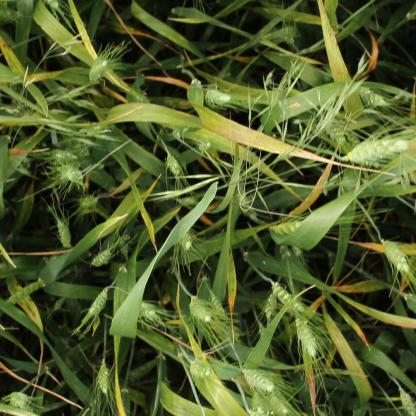whd: (346, 139, 407, 167), (272, 284, 304, 312), (356, 86, 389, 112), (294, 321, 318, 356), (9, 279, 45, 302), (384, 240, 409, 273), (243, 367, 274, 391), (188, 296, 213, 323), (59, 166, 84, 190), (87, 58, 110, 81), (88, 292, 107, 316), (206, 90, 230, 109), (271, 221, 301, 235), (400, 390, 416, 416), (166, 154, 182, 180), (91, 248, 114, 266), (326, 119, 342, 144), (252, 394, 272, 414), (188, 360, 210, 378), (97, 364, 110, 394), (57, 221, 71, 248), (52, 152, 78, 166), (78, 125, 108, 137), (282, 28, 302, 46), (269, 394, 287, 414), (208, 294, 224, 316), (0, 6, 22, 21), (8, 394, 29, 408), (265, 296, 278, 318), (141, 303, 158, 319), (180, 229, 193, 249), (116, 237, 128, 255), (347, 133, 359, 150), (81, 196, 99, 207), (197, 140, 211, 154), (53, 297, 66, 310), (46, 0, 61, 10), (292, 245, 304, 257), (178, 198, 196, 206), (235, 191, 246, 204), (136, 95, 151, 103), (258, 324, 266, 336), (318, 410, 328, 416)
